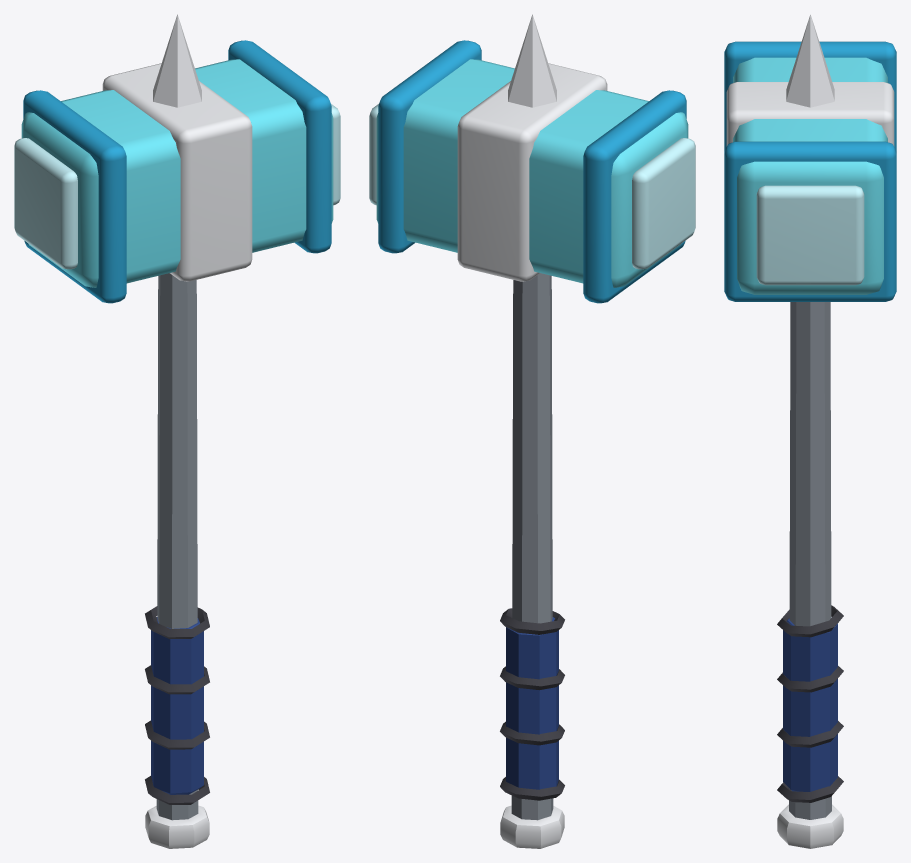
Rendered from DiamondWarHammer.fbx.
3 views of the same model, side by side, from view 1: azimuth 30°, elevation 25°; view 2: azimuth 150°, elevation 25°; view 3: azimuth 270°, elevation 25° (orthographic).
Visible parts, largest first — view 1: DiamondWarHammer; view 2: DiamondWarHammer; view 3: DiamondWarHammer.
Part boxes in pixels (x1=…): DiamondWarHammer: x1=14, y1=14, x2=340, y2=848; DiamondWarHammer: x1=369, y1=14, x2=695, y2=848; DiamondWarHammer: x1=724, y1=14, x2=896, y2=848.
Size of the model in its own units: 1.5 by 4.23 by 0.8.
1 material, 1 textured.
